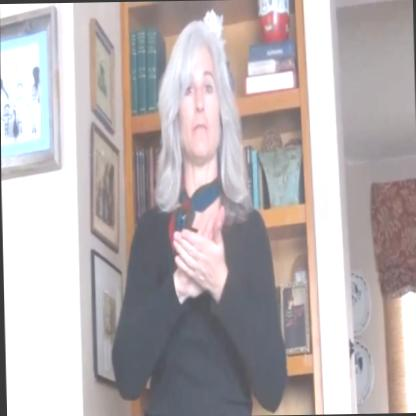NiceToMeetYou: (165, 186, 239, 312)
